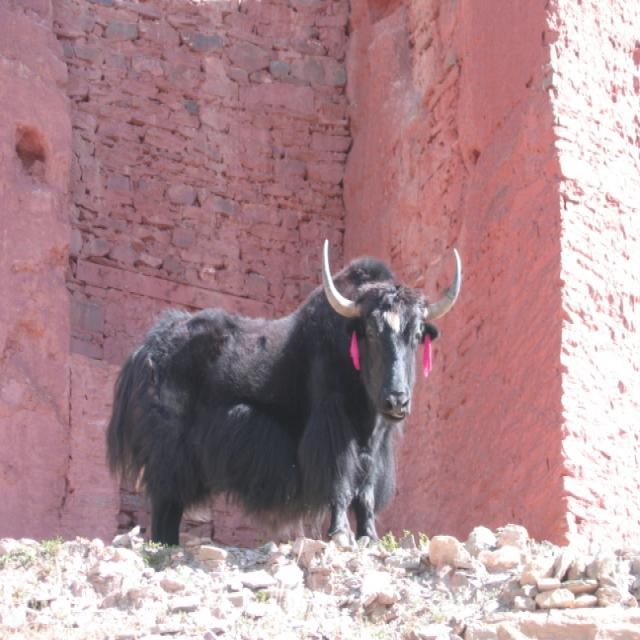cow: (106, 242, 461, 544)
